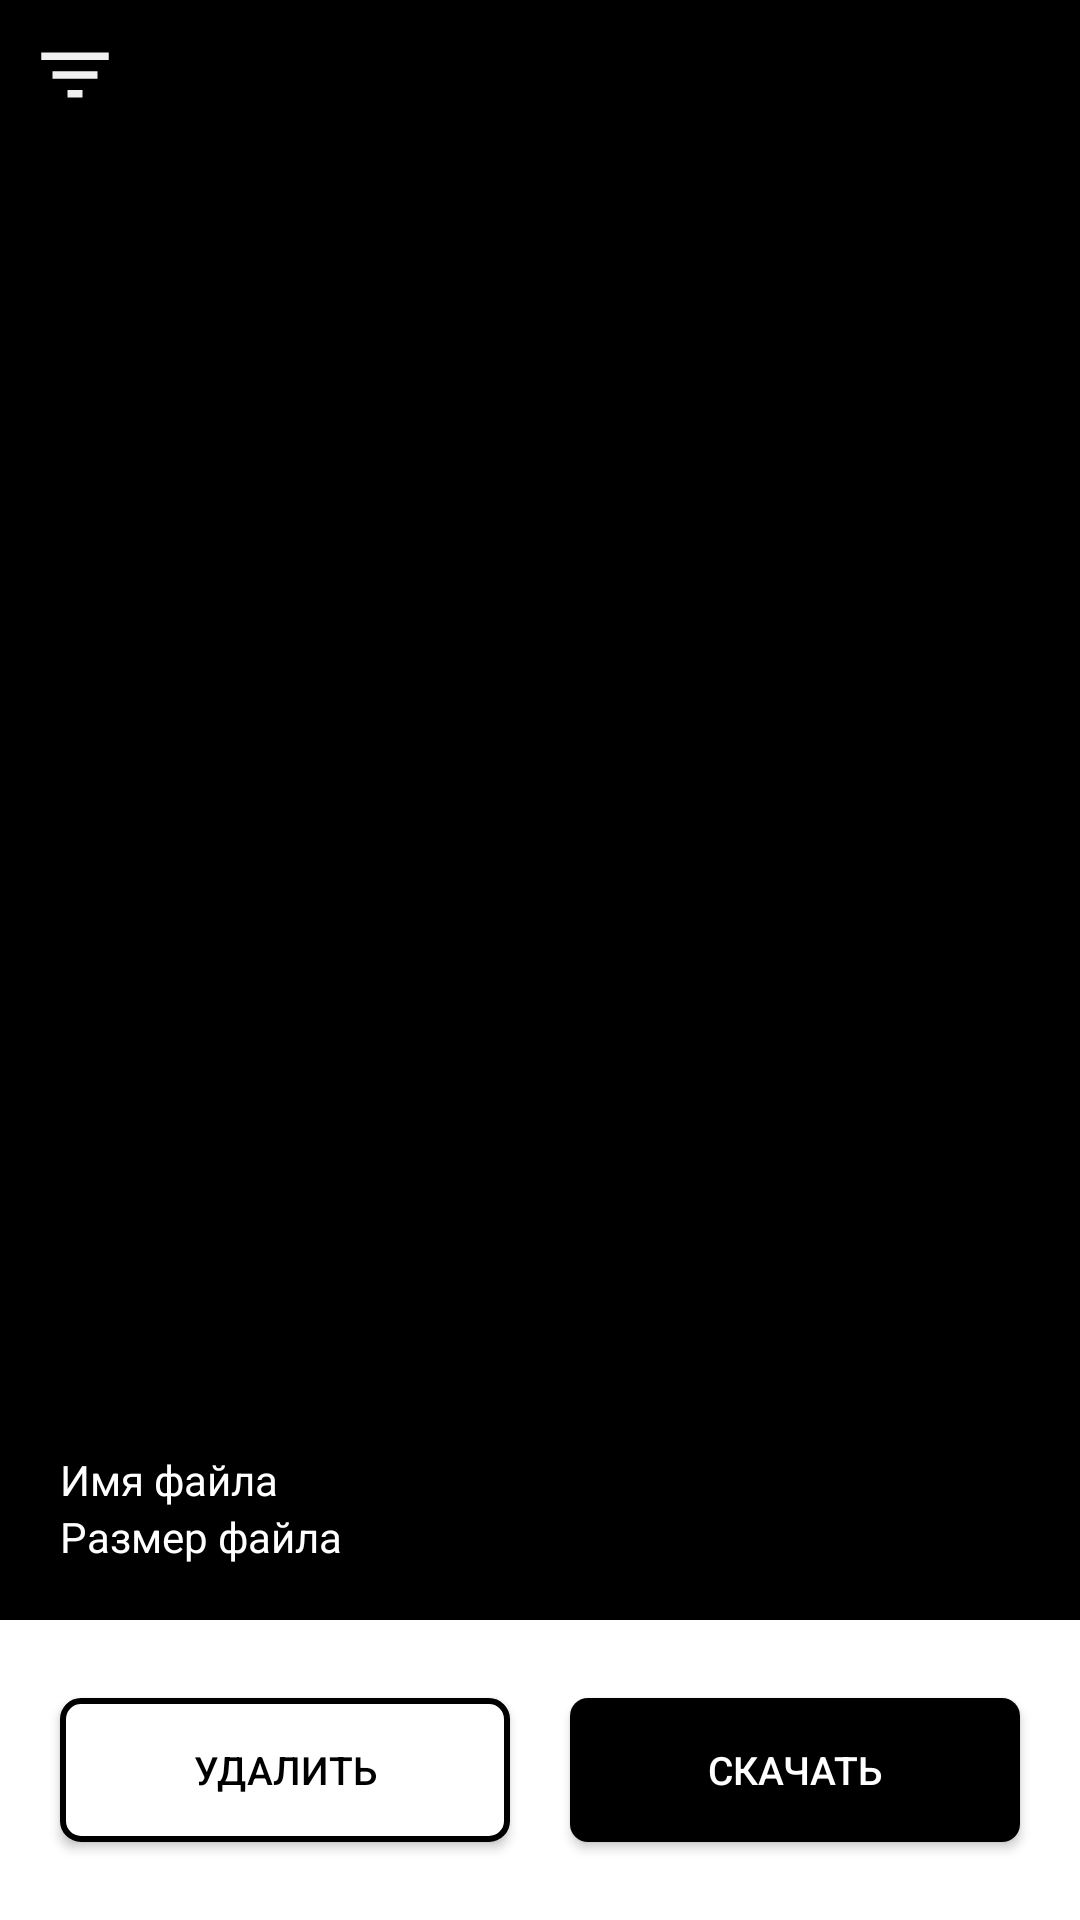

Icons on this 1080x1920 Android screen, each with its box as [x1=x1, y1=y1, x2=x2, y2=y2]:
filterlist: [x1=41, y1=52, x2=109, y2=98]
